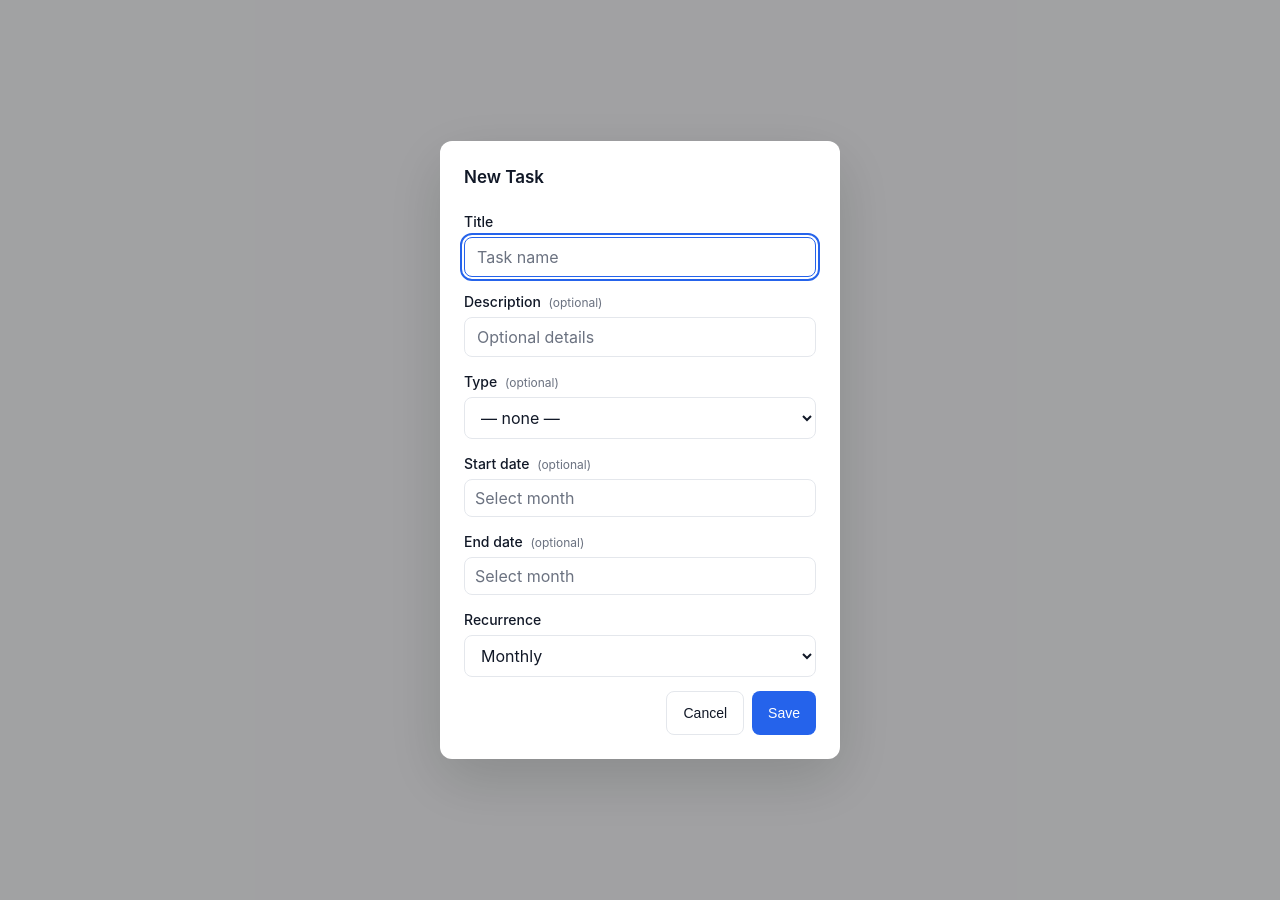
it: TaskForm › form submission › disables Save button while saving
Type "Rent" into the field labelled "Title".
click(640, 257); type("Rent")  # box [464,237,816,277]
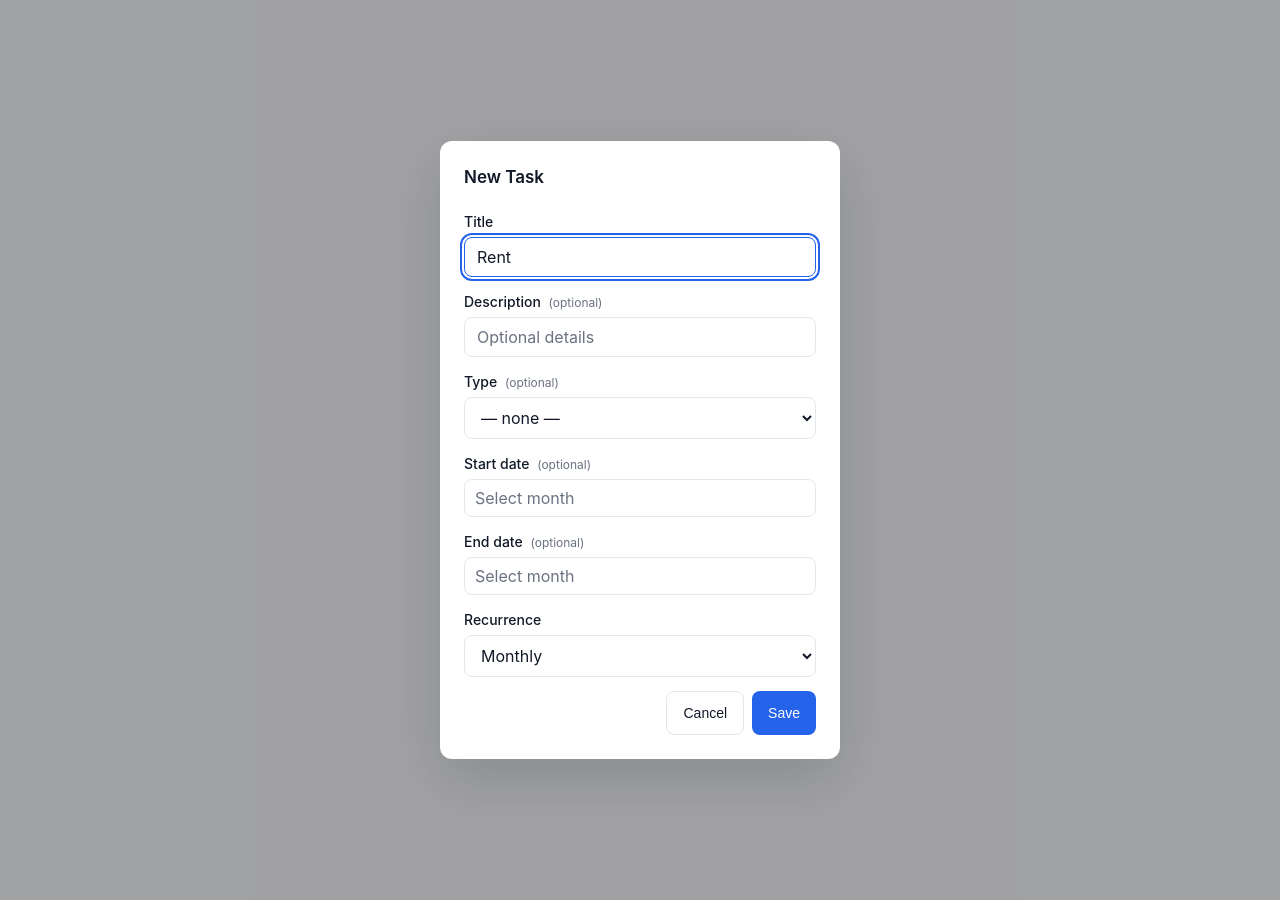
Click the button "Save".
click(784, 713)  # box [752,691,816,735]
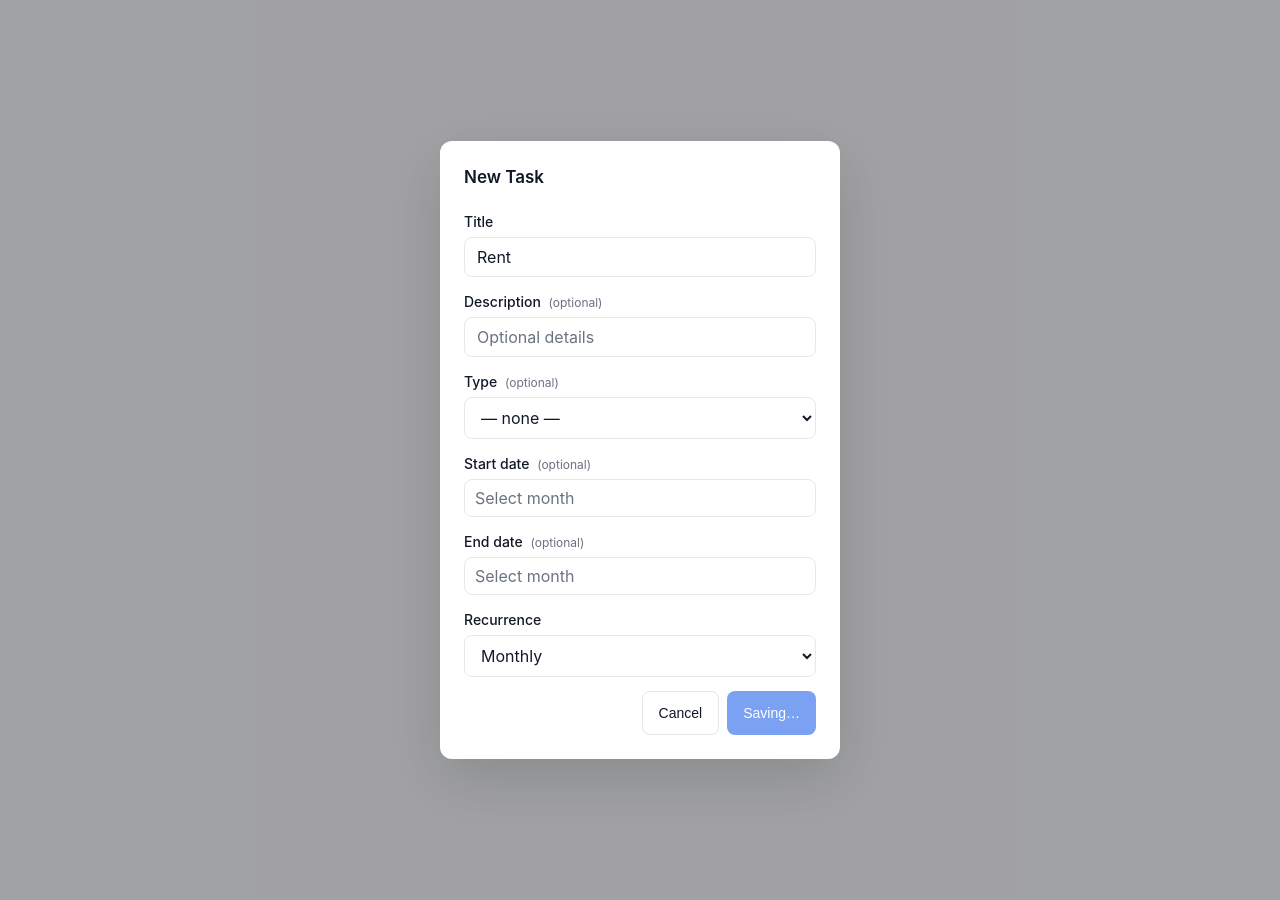
Result: the button "Saving…" is disabled at [727,691,816,735]
